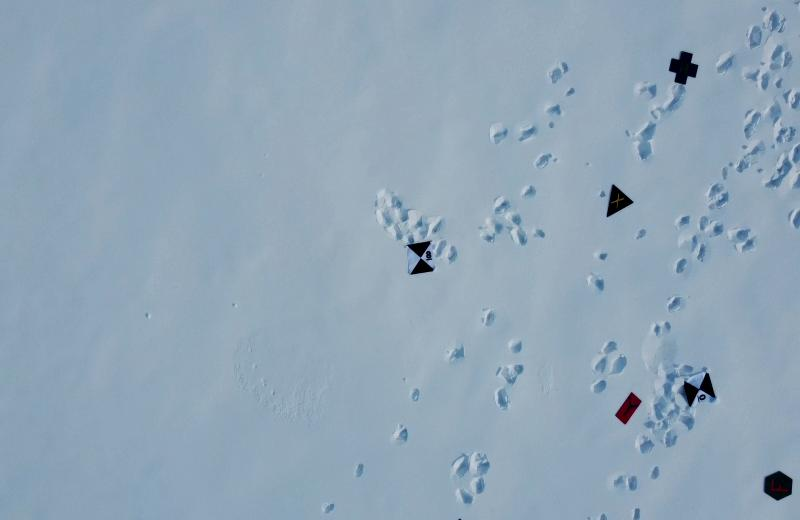Cross: (668, 49, 699, 88)
Hexagon: (761, 470, 796, 504)
Rectangle: (614, 390, 644, 426)
Triangle: (604, 182, 635, 219)
